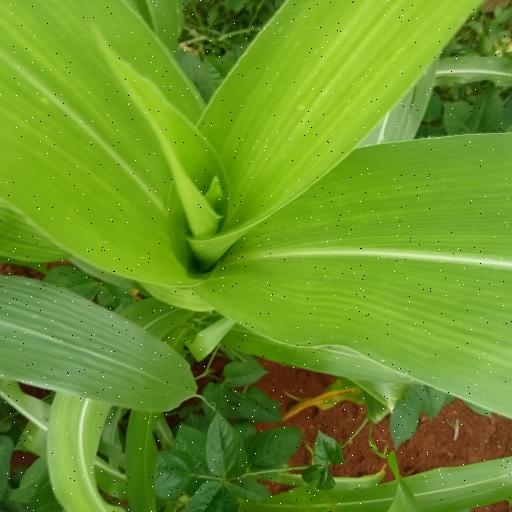Corn_Brown_Spots: (0, 8, 512, 386)
